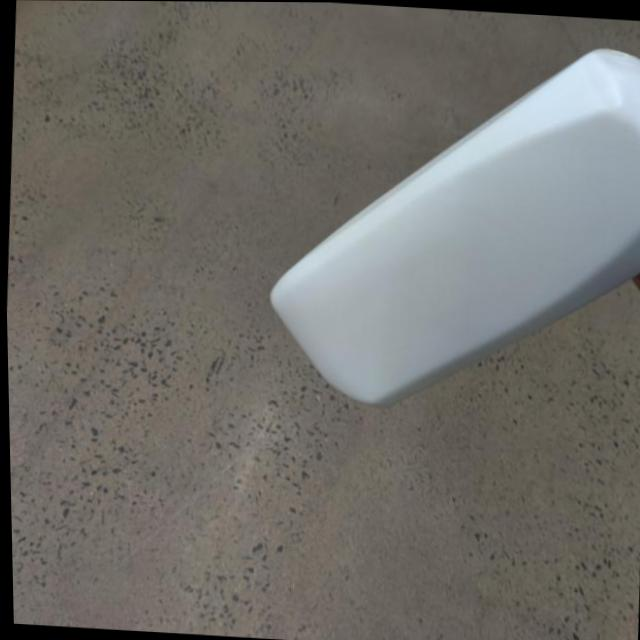Milk: (251, 10, 640, 439)
